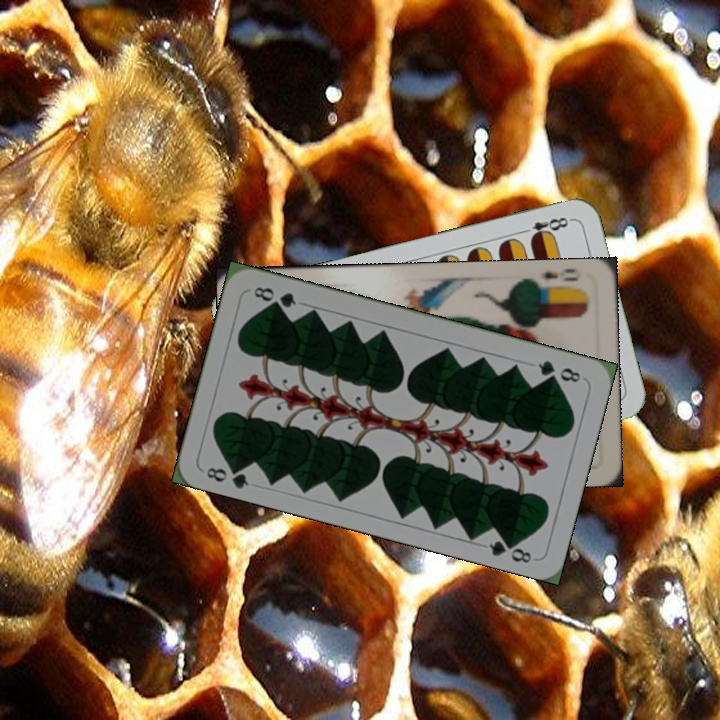E8: (516, 213, 574, 243)
EO: (531, 266, 580, 293)
G8: (202, 460, 252, 491), (534, 356, 584, 385)
